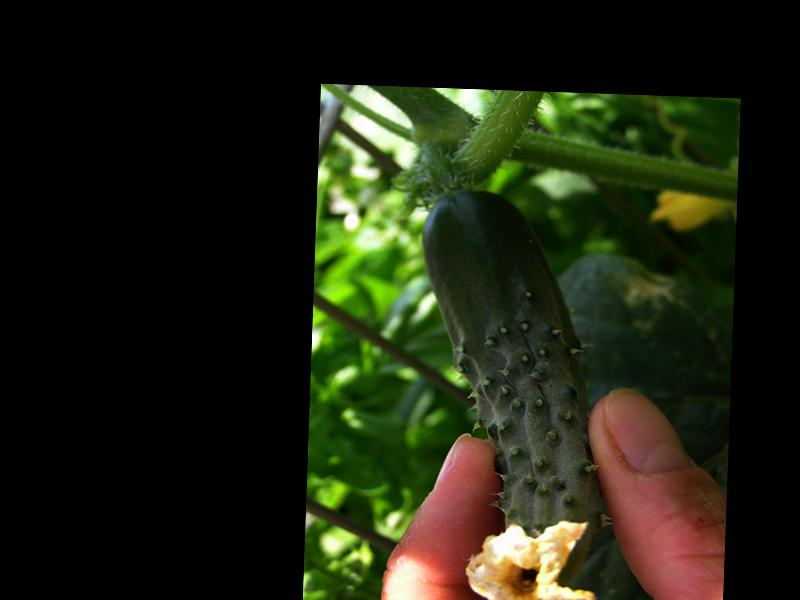Cucumber: (410, 187, 612, 600)
